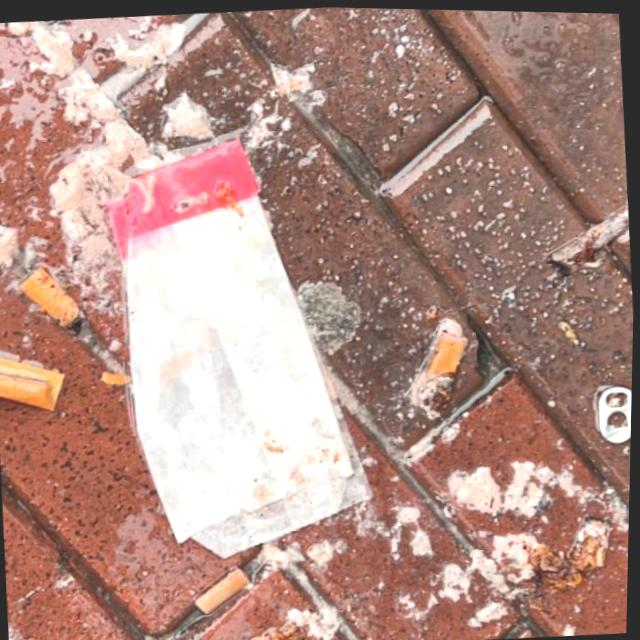Paper: (89, 120, 386, 571)
